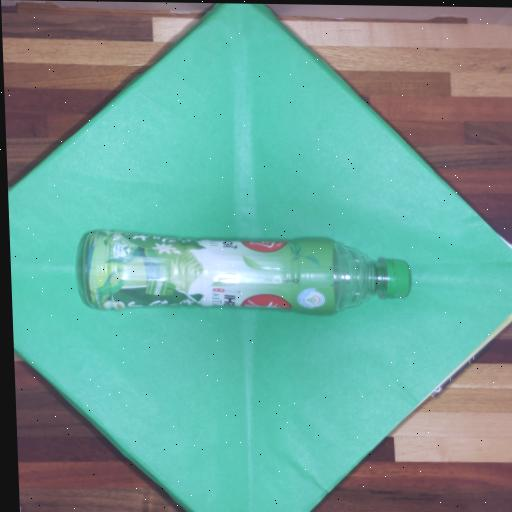bottle: (69, 208, 422, 335)
